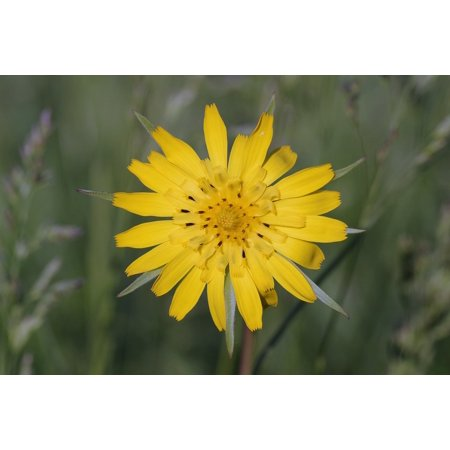dandelion: (102, 107, 365, 339)
